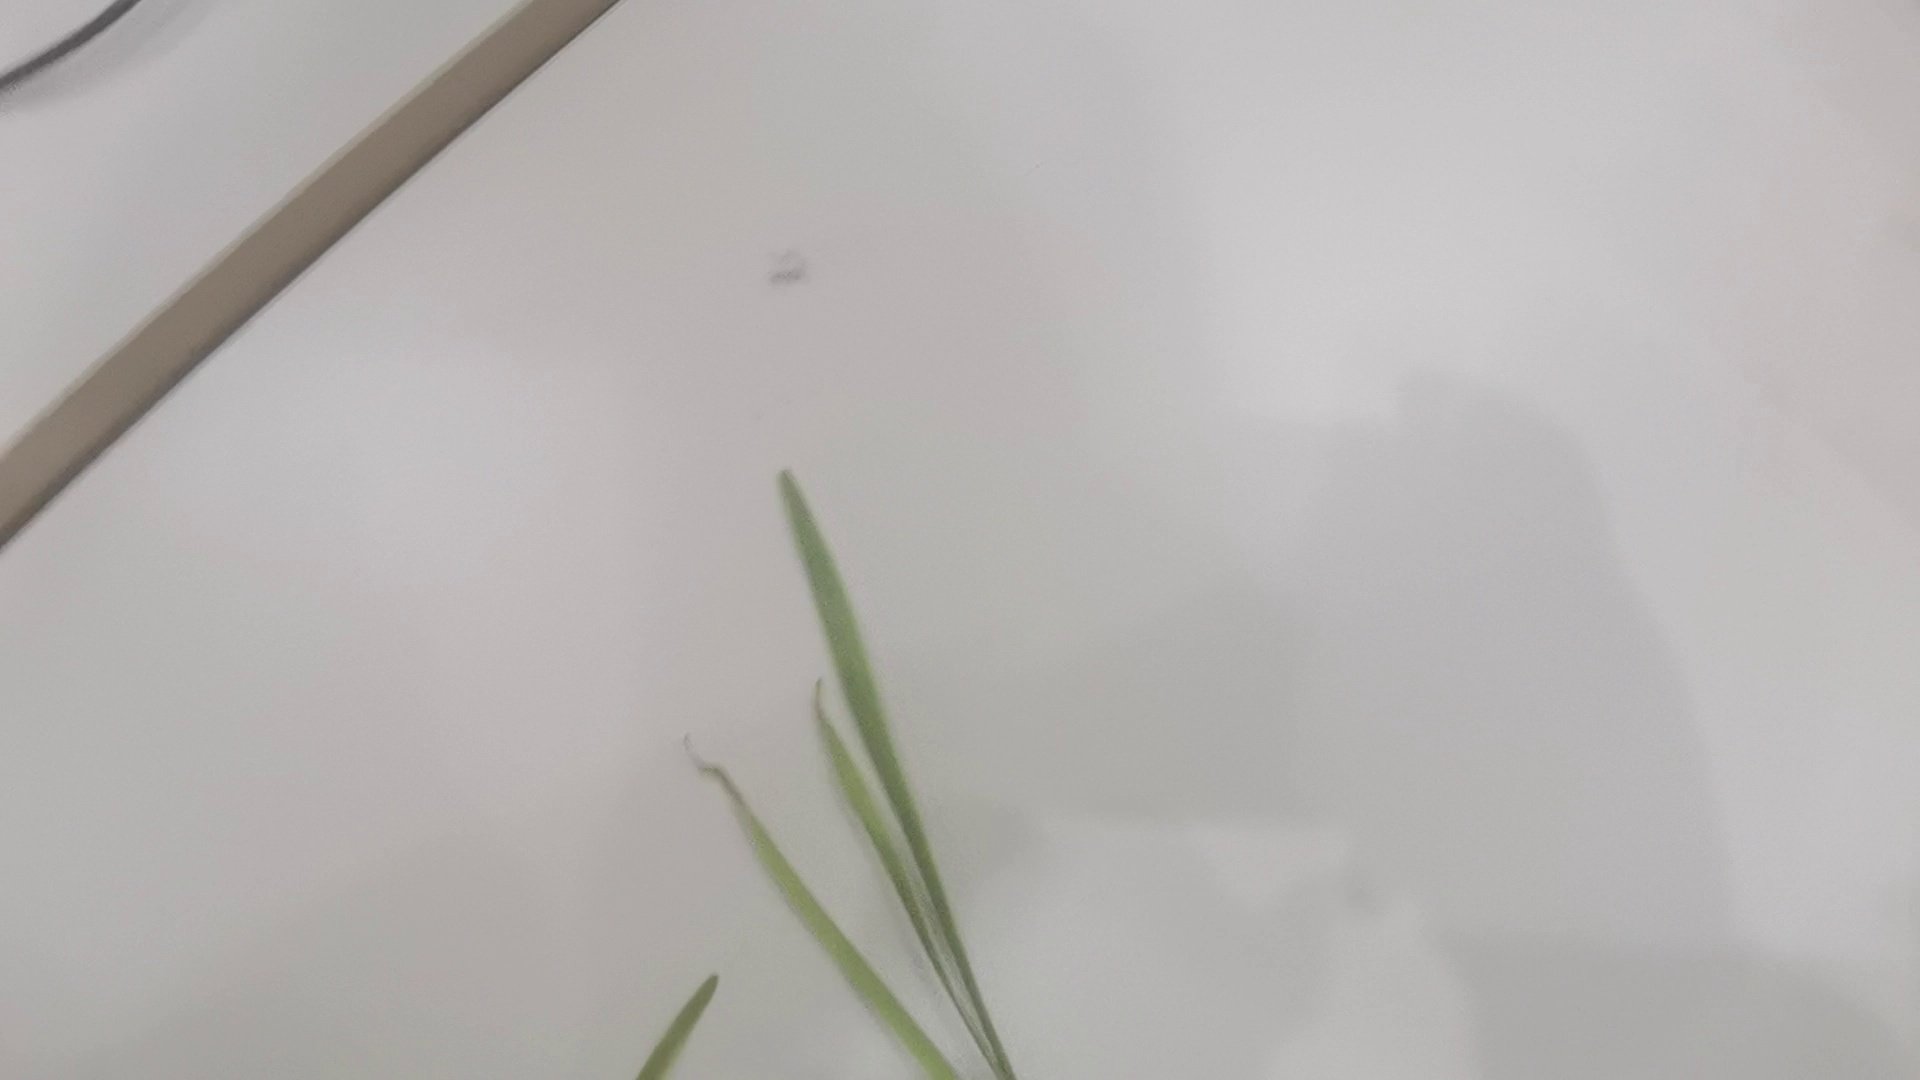chives: (524, 473, 1029, 1080)
